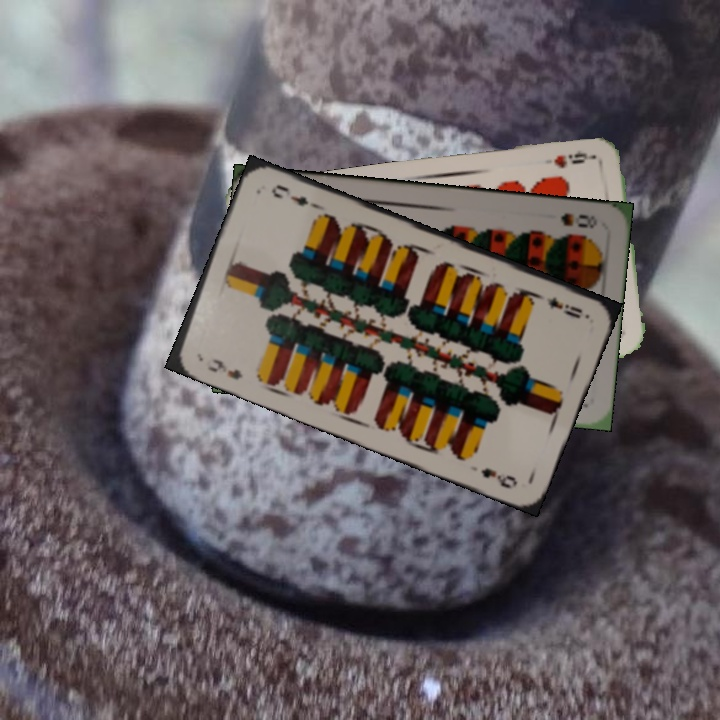E9: (543, 292, 585, 322), (203, 354, 245, 383)
H9: (549, 148, 596, 170)
S8: (557, 209, 600, 231)
